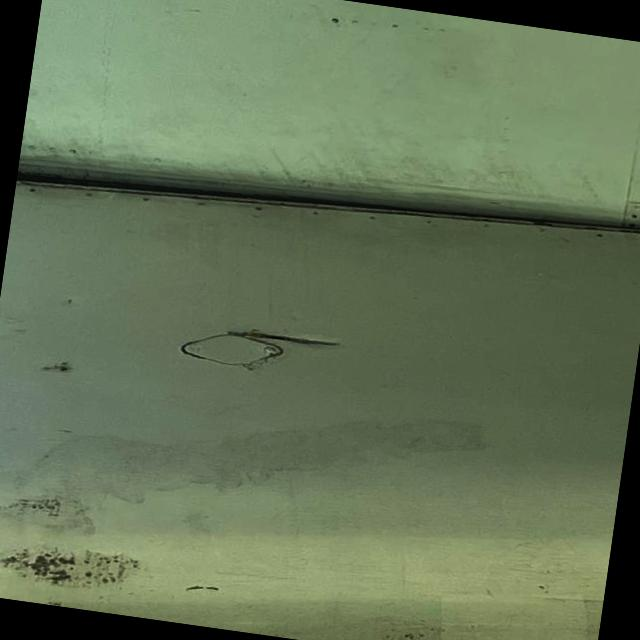crack: (220, 318, 346, 356)
